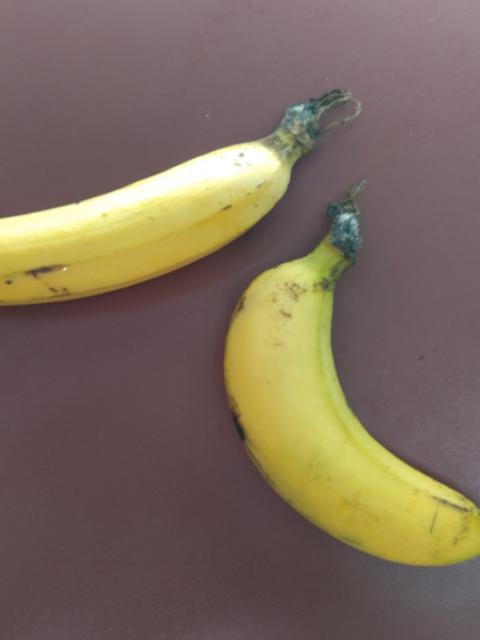freshripe: (220, 246, 479, 602), (0, 127, 311, 348)
